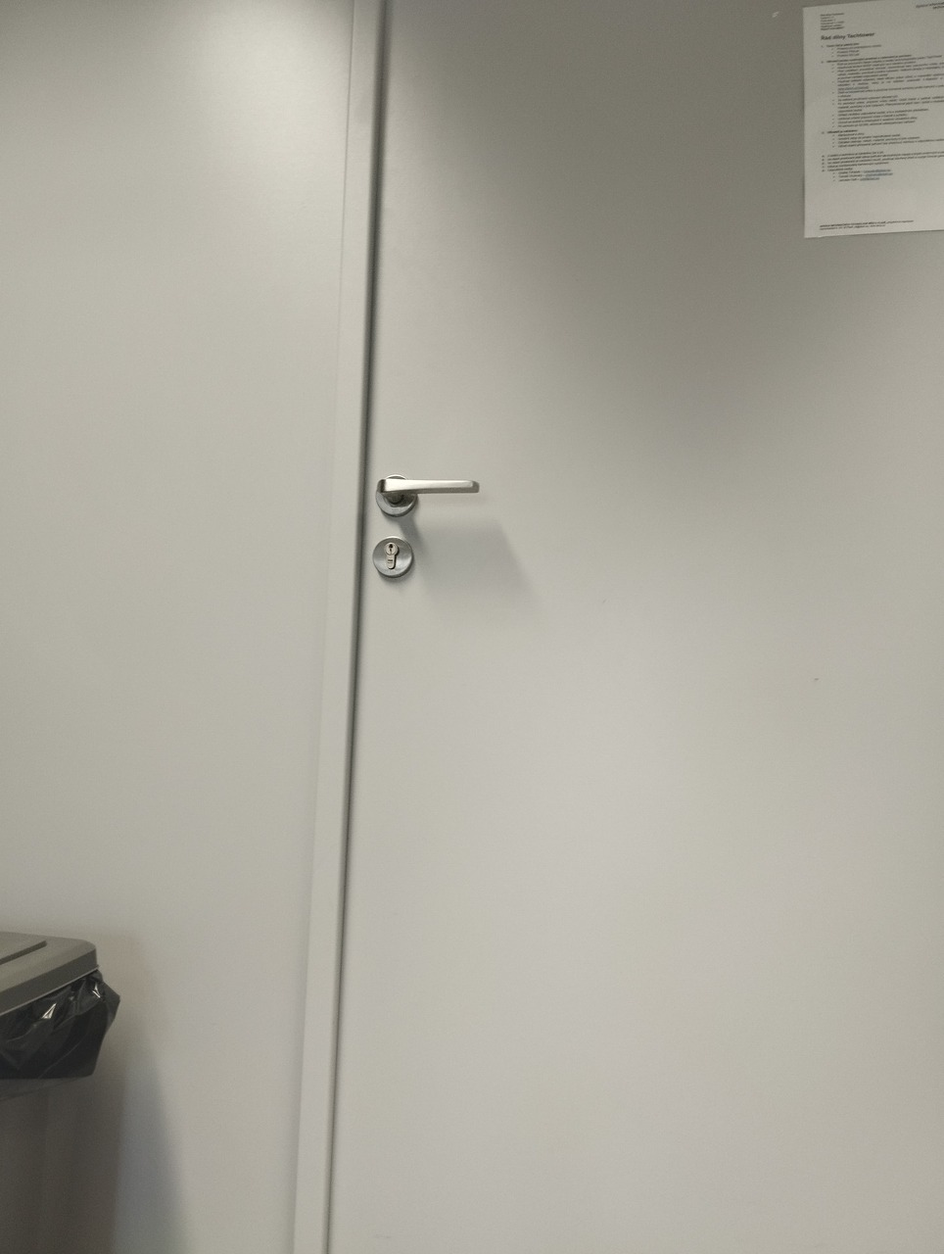Door-handle: (373, 472, 482, 519), (374, 472, 481, 502)
